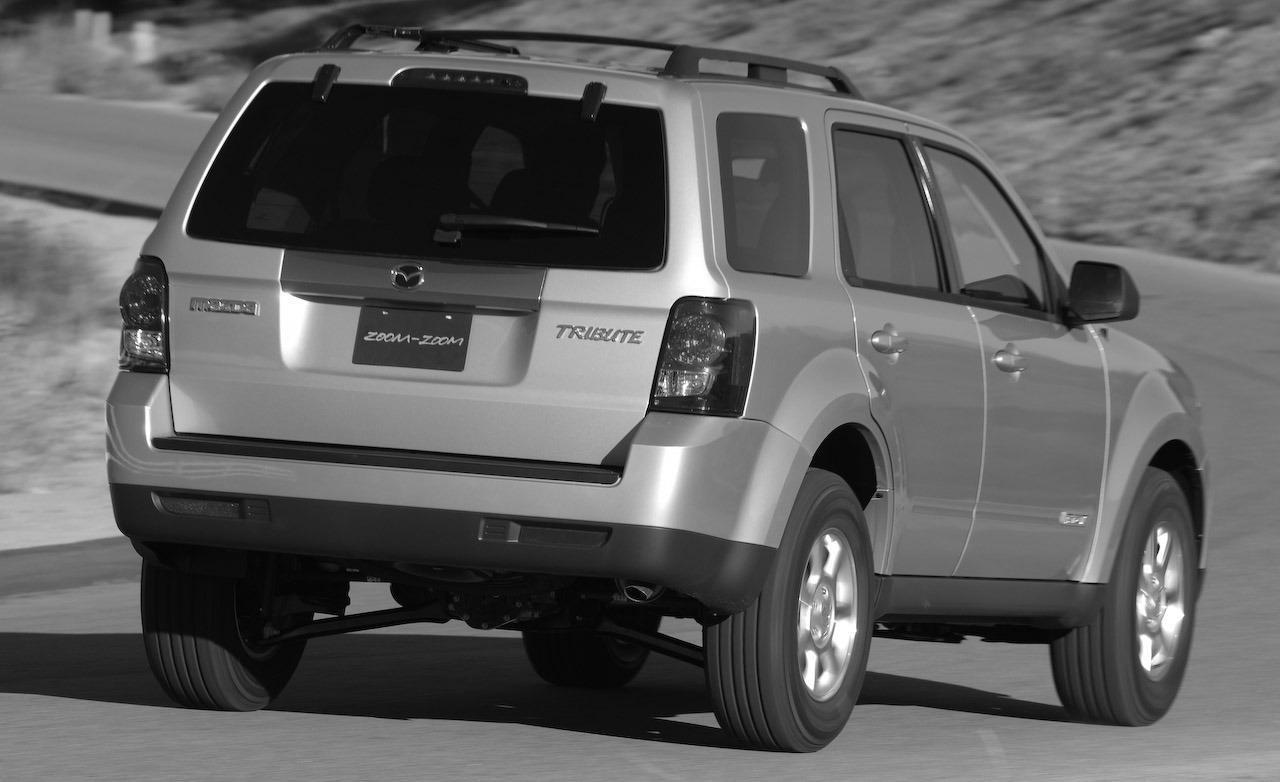car: (100, 22, 1223, 755)
